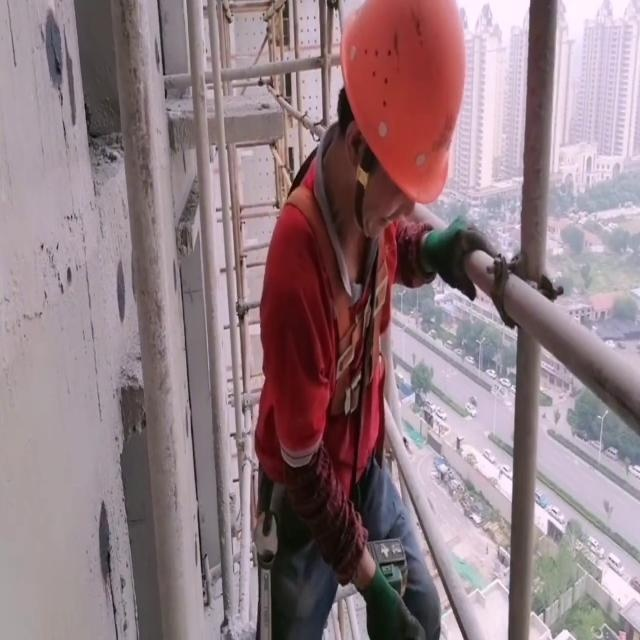Arnes_seguridad: (269, 168, 399, 436)
